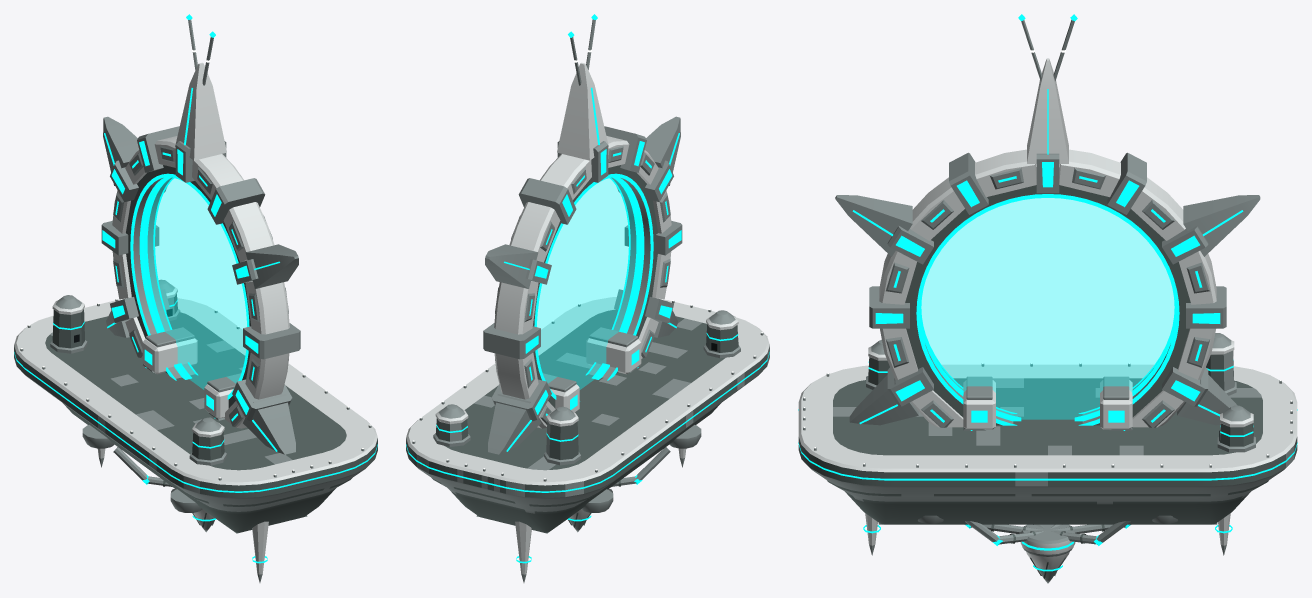
Rendered from base-warp.glb.
3 views of the same model, side by side, from view 1: azimuth 30°, elevation 25°; view 2: azimuth 150°, elevation 25°; view 3: azimuth 270°, elevation 25° (orthographic). The views are drawn at different scales.
Parts seen in each view (by area): view 1: ilha, portal, portal_membrana, pendurados; view 2: ilha, portal, portal_membrana, pendurados; view 3: ilha, portal, portal_membrana, pendurados.
Boxes of the visible parts, bbox=[...] form: ilha: bbox=[14, 279, 377, 533]; portal: bbox=[101, 14, 300, 454]; portal_membrana: bbox=[144, 178, 246, 389]; pendurados: bbox=[97, 447, 268, 582]; ilha: bbox=[406, 297, 769, 533]; portal: bbox=[483, 14, 682, 454]; portal_membrana: bbox=[537, 178, 639, 389]; pendurados: bbox=[515, 447, 686, 582]; ilha: bbox=[798, 333, 1297, 524]; portal: bbox=[835, 14, 1260, 430]; portal_membrana: bbox=[921, 198, 1174, 419]; pendurados: bbox=[863, 513, 1232, 583].
Size of the model in its own units: 77.24 by 192 by 153.
